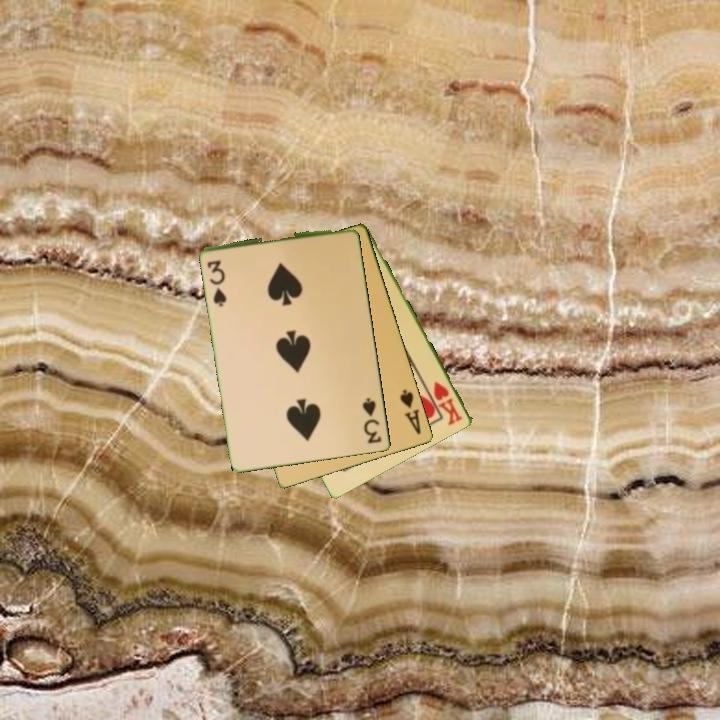3s: (359, 394, 385, 447), (204, 257, 230, 307)
As: (397, 386, 424, 437)
Kh: (430, 378, 466, 428)
